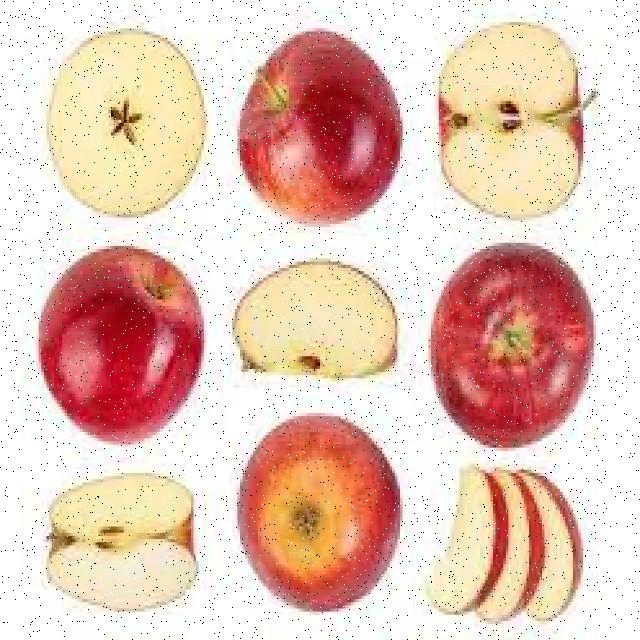Apple: (434, 240, 591, 448), (41, 248, 202, 448), (49, 25, 206, 222), (243, 31, 402, 222), (242, 424, 403, 612), (439, 23, 587, 217), (48, 469, 200, 614), (230, 263, 401, 388), (422, 474, 504, 610), (482, 484, 546, 624), (529, 472, 583, 631)
